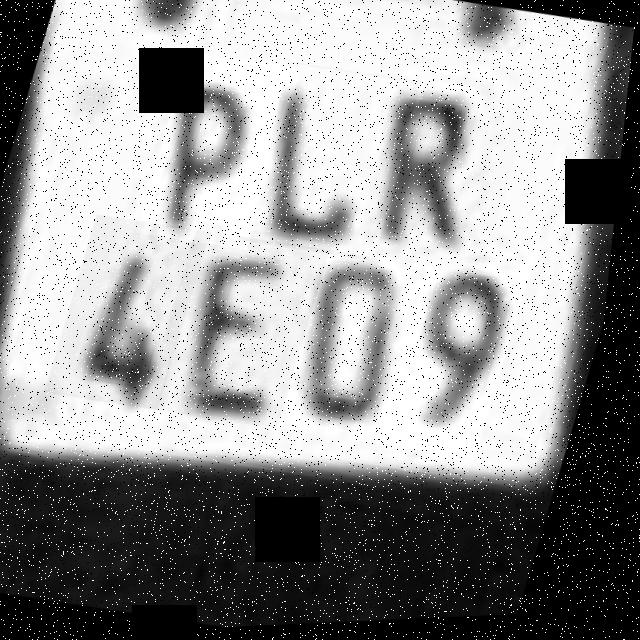0: (275, 240, 446, 453)
4: (51, 211, 219, 417)
9: (383, 258, 538, 467)
E: (151, 219, 341, 436)
J: (241, 60, 426, 269)
L: (230, 59, 429, 266)
P: (139, 49, 305, 257)
R: (354, 90, 535, 283)
